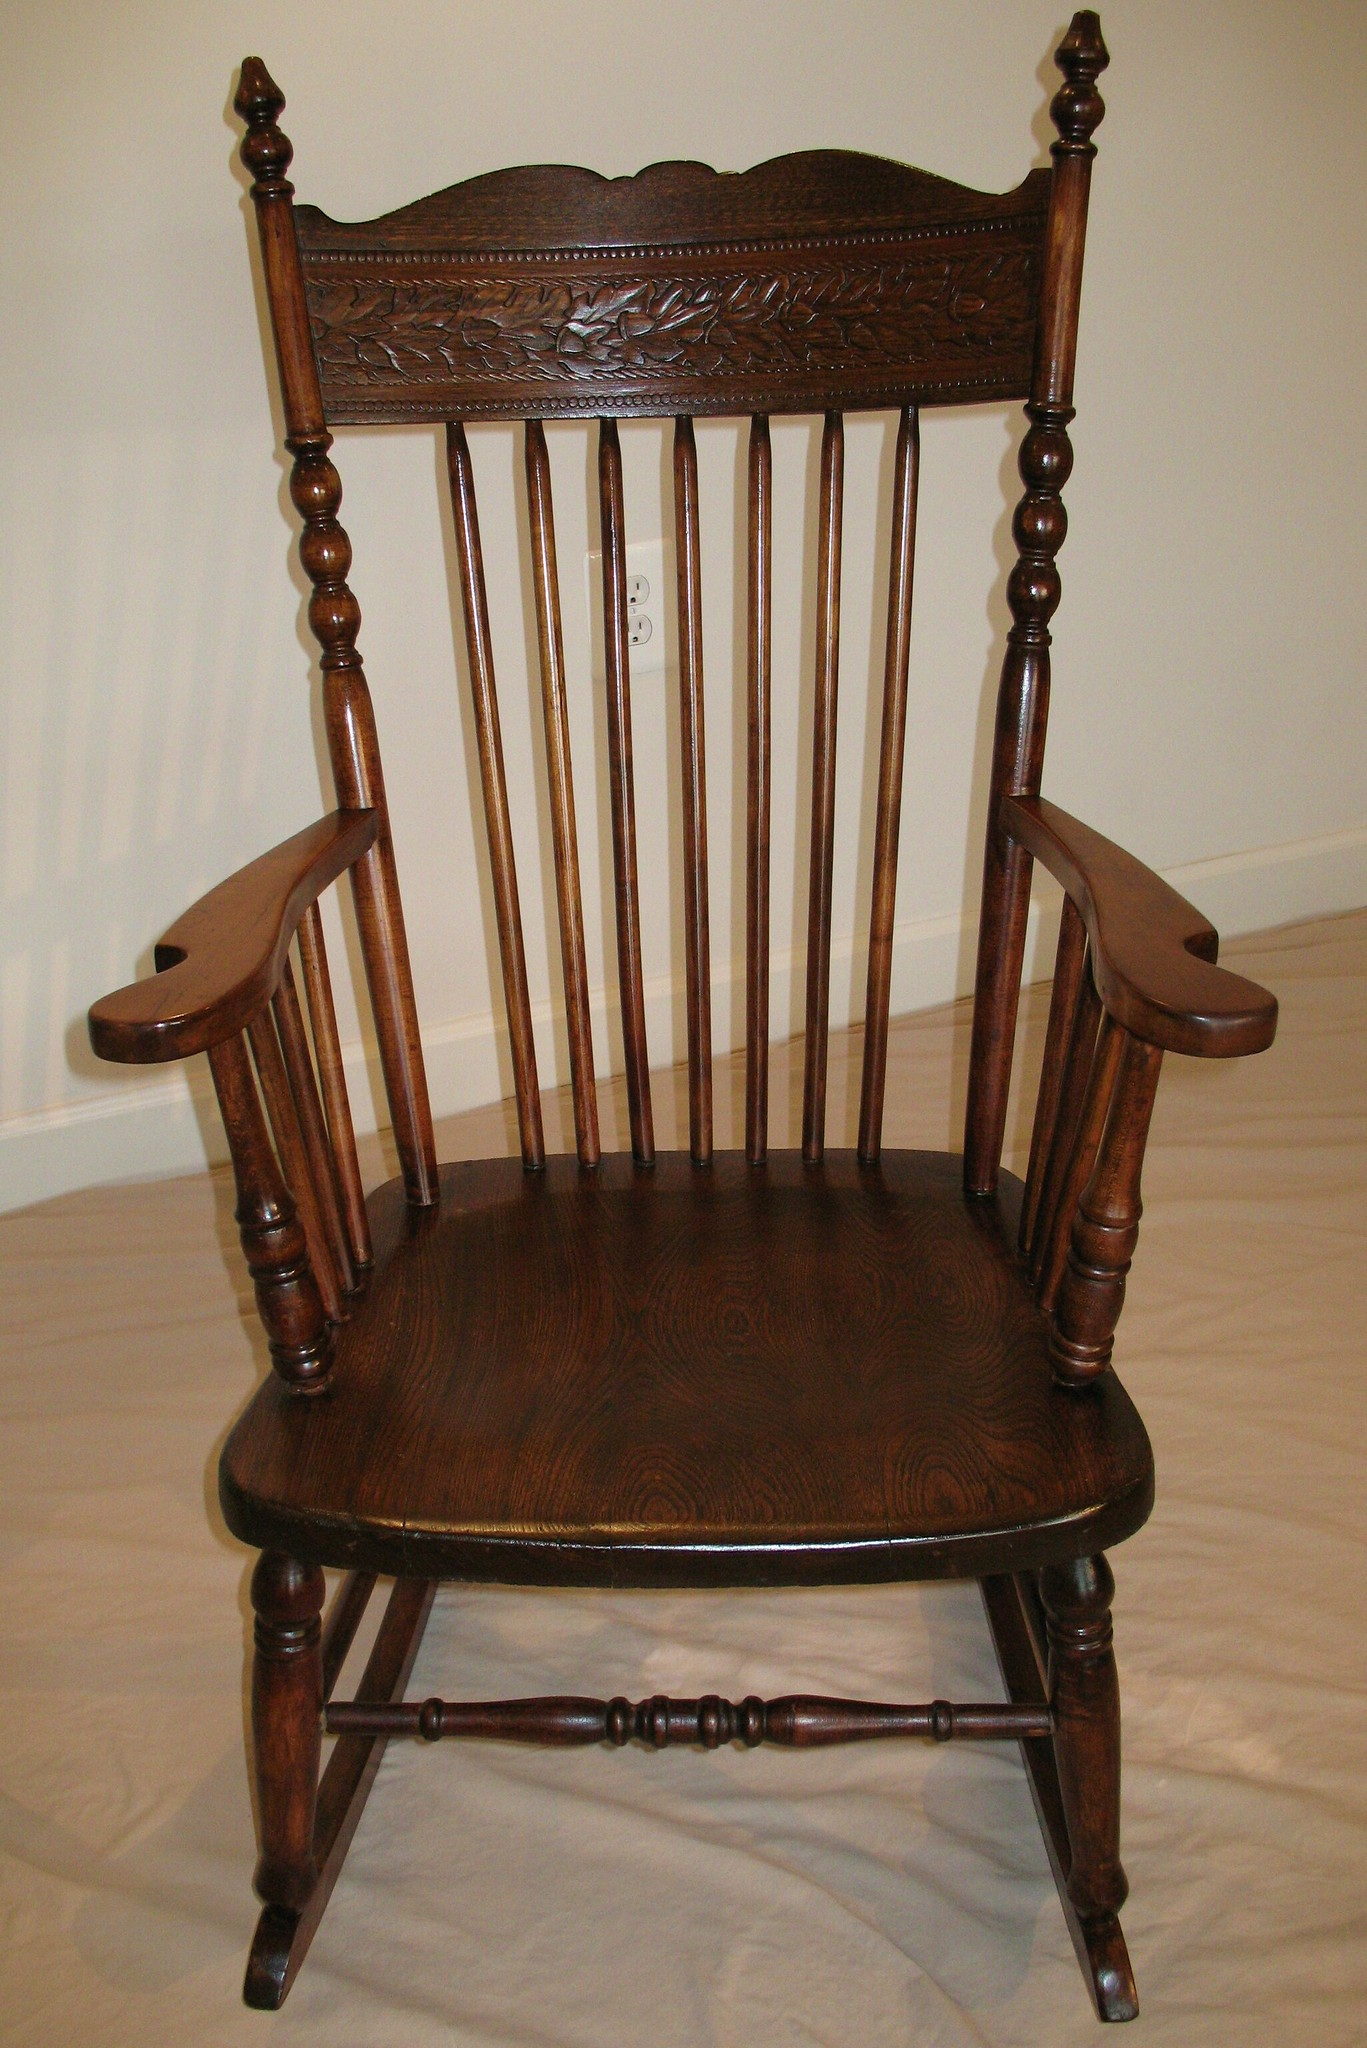chair: (64, 34, 1291, 2048)
